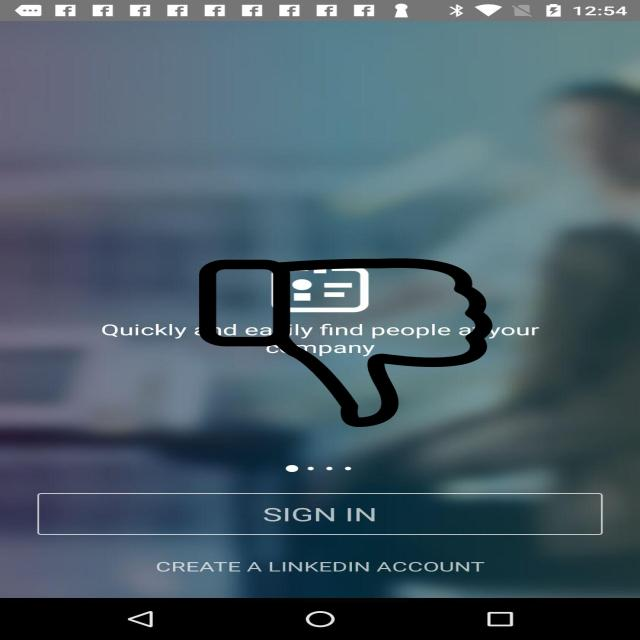obstruction: (195, 258, 497, 427)
